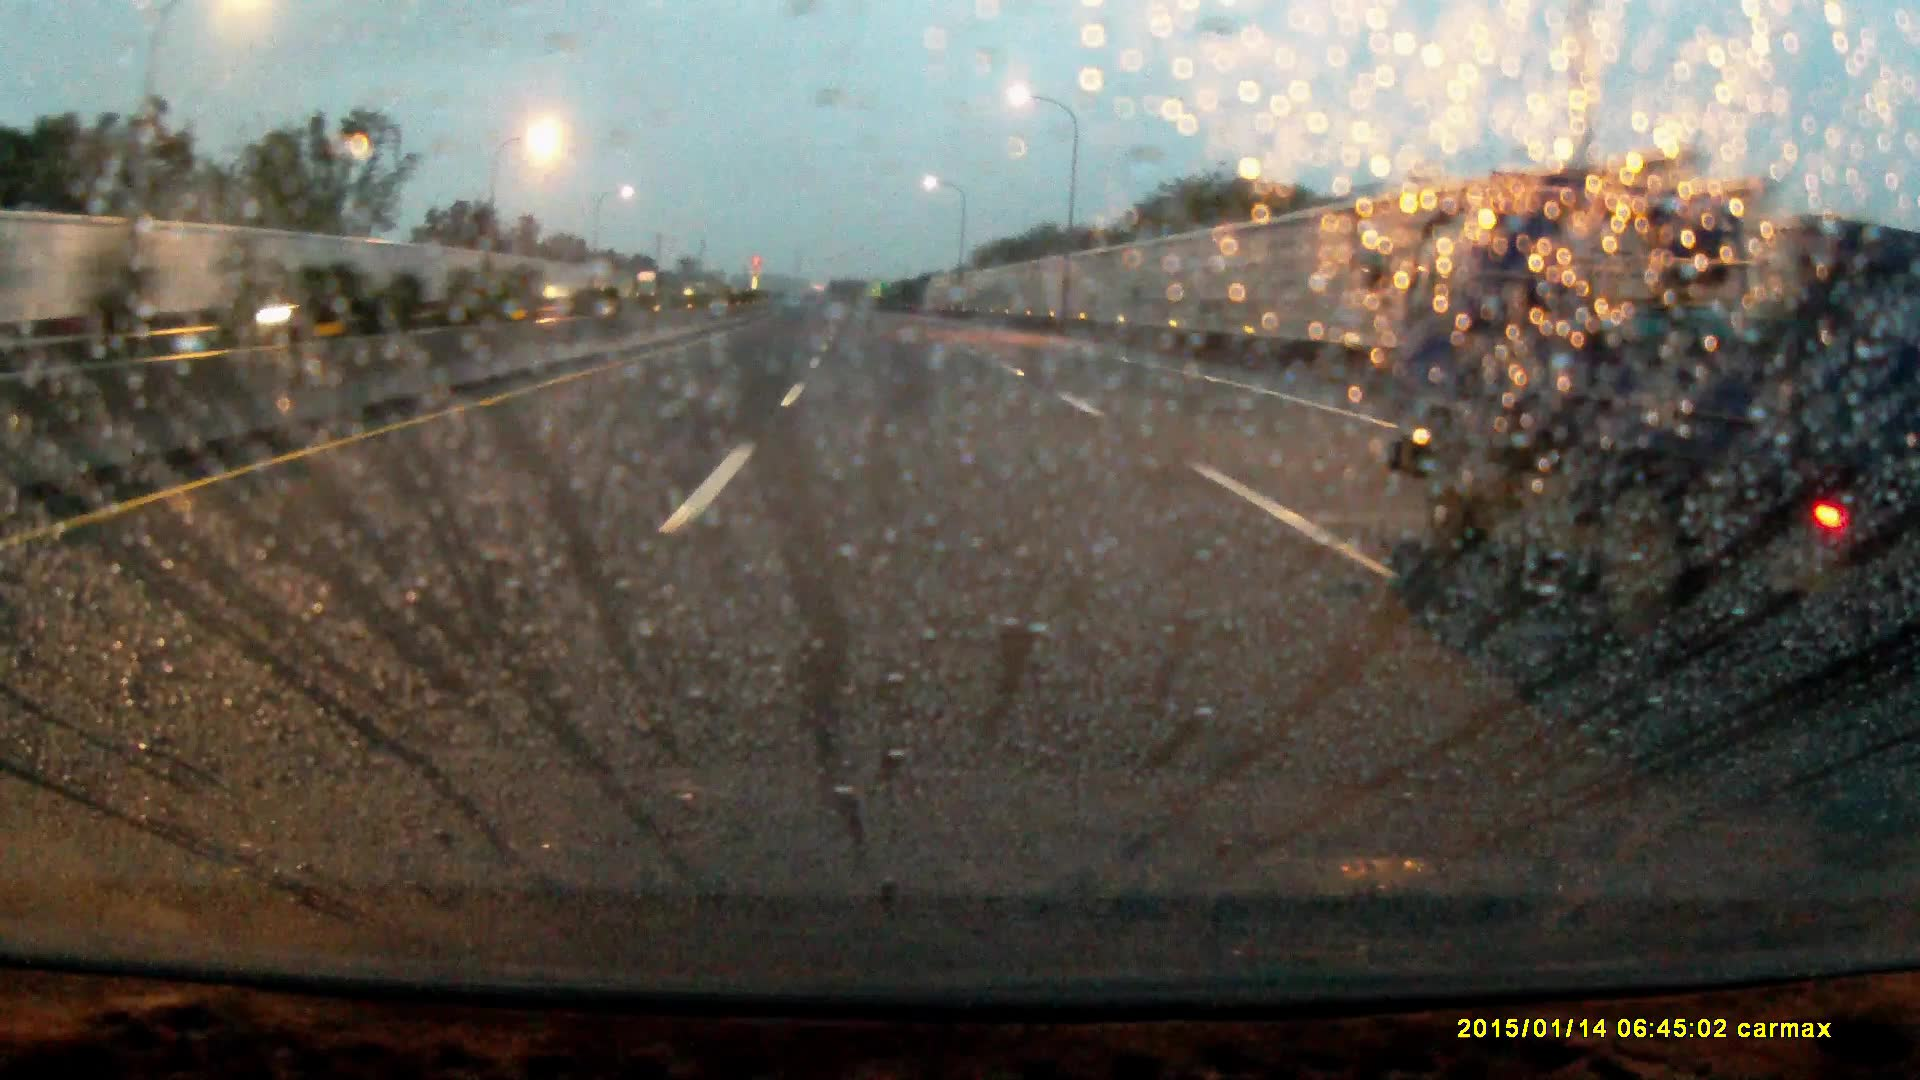vehicle: (1374, 175, 1920, 620), (256, 268, 382, 335), (636, 270, 665, 301)
